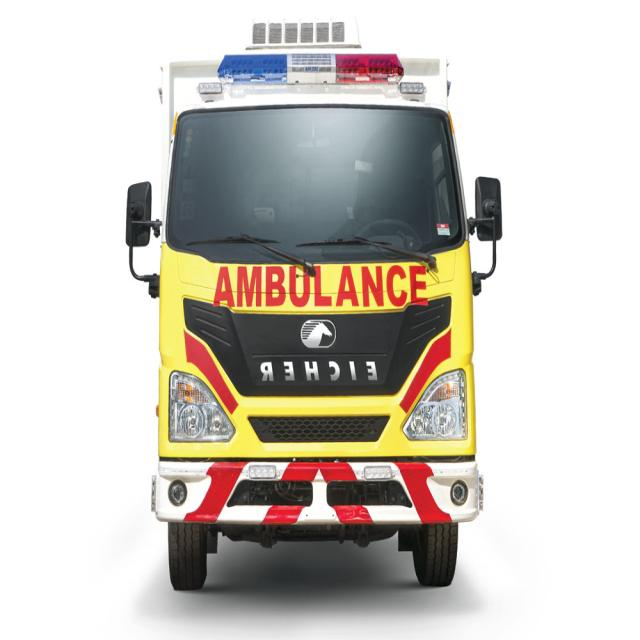emergency: (126, 19, 502, 589)
